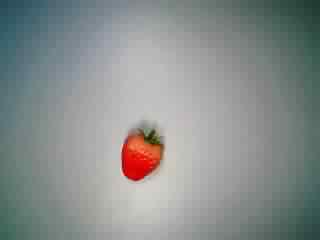strawberry: (107, 120, 175, 184)
